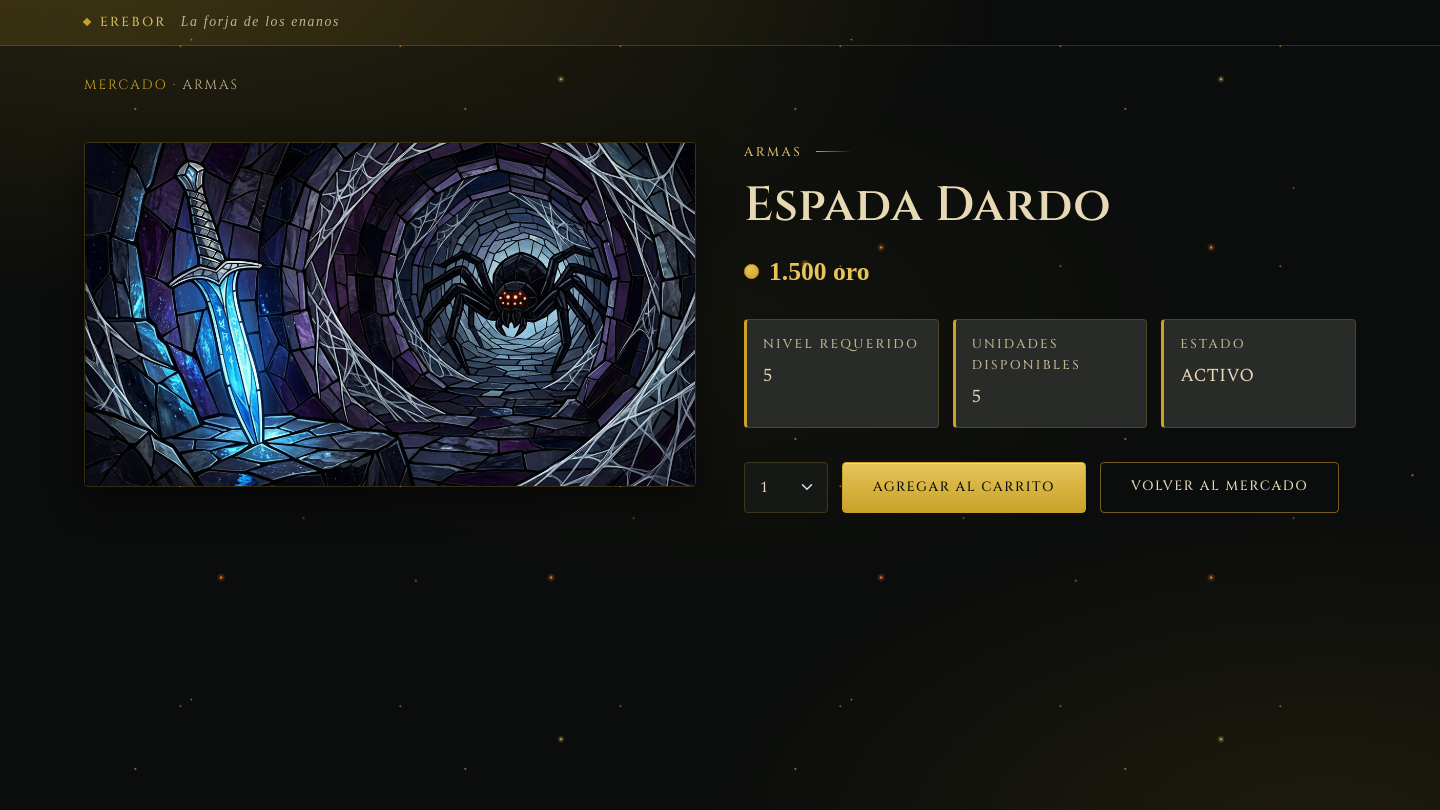
DetalleProducto › comprar › agrega el objeto al carrito
Step 1. Click the button "Agregar al carrito" → (964, 487), box [842, 462, 1086, 513]
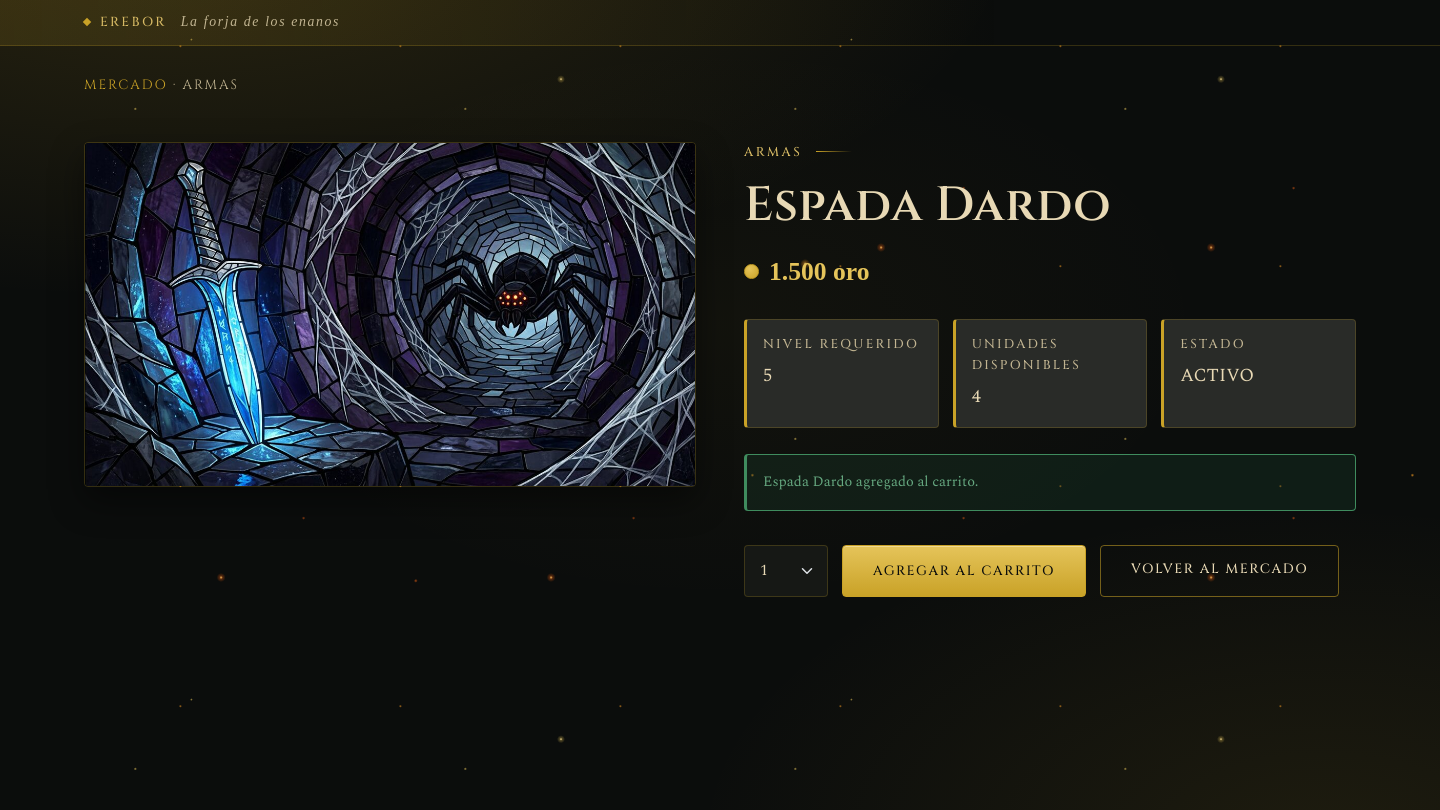
Now the text "Espada Dardo agregado al carrito." is shown, box [744, 454, 1356, 511]
